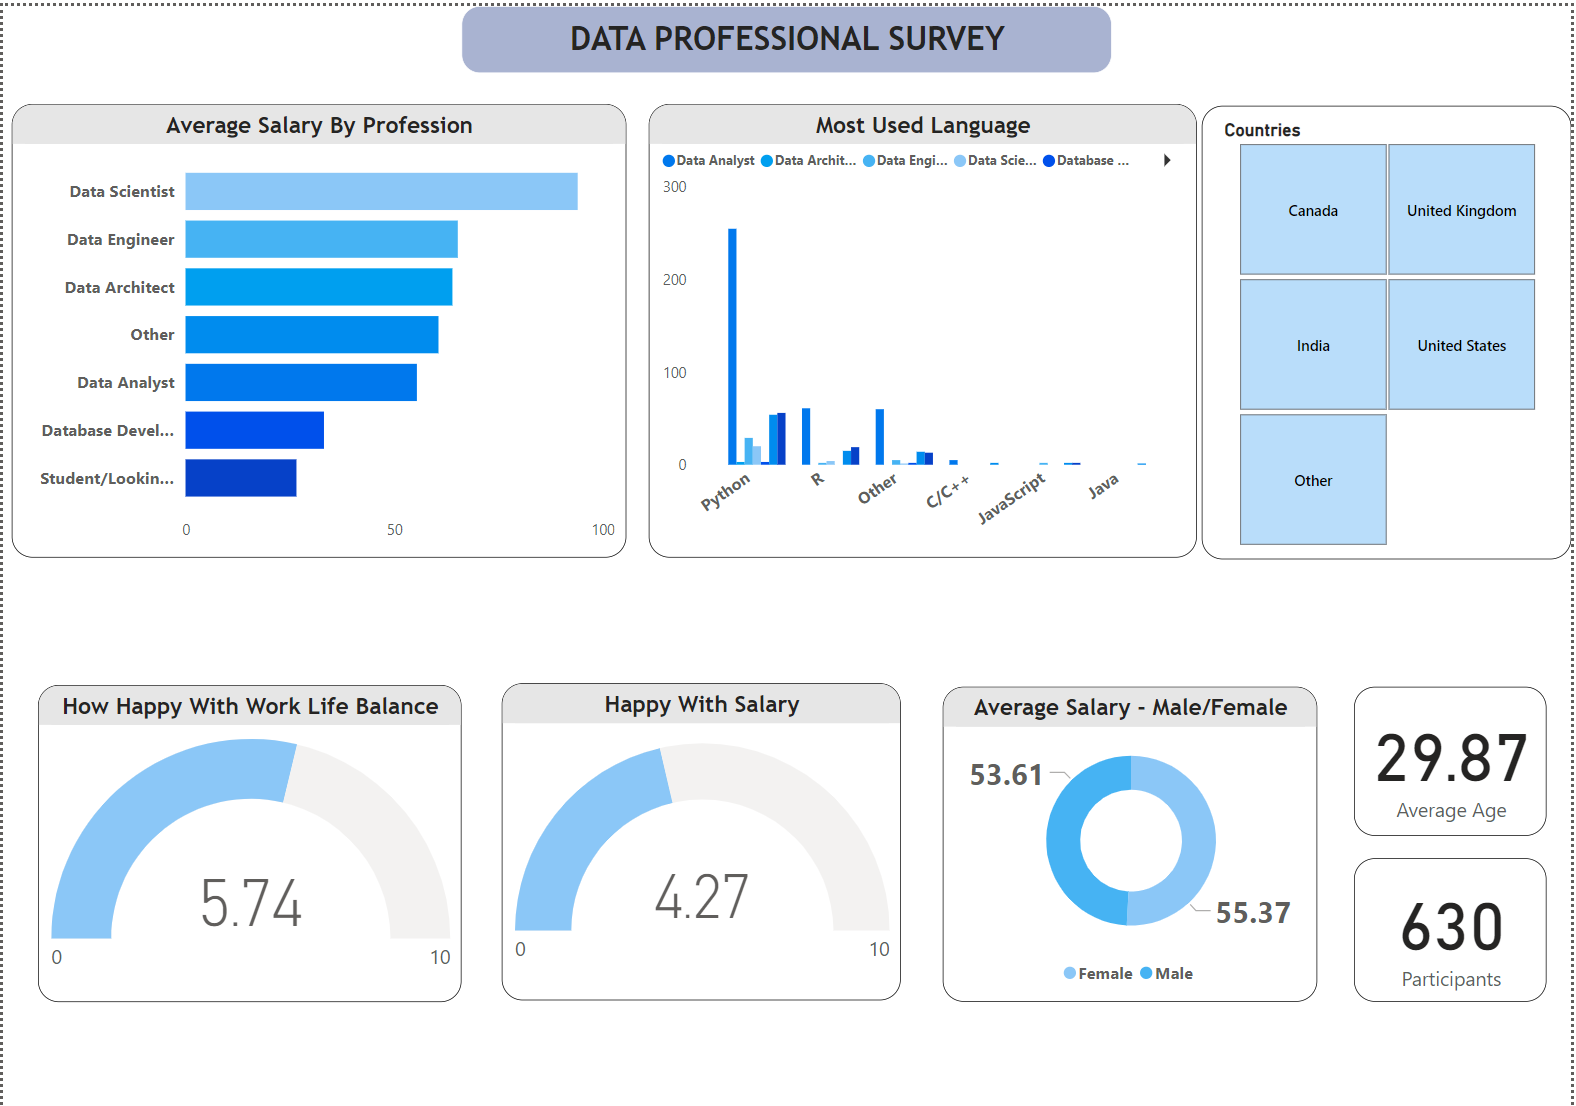

This screenshot's page, from the dashboard's own definition file:
{"tool":"powerbi","page":{"name":"First ","canvas":[1280,900],"ordinal":0},"visuals":[{"type":"textbox","box":[374.6,0,530.6,55],"z":0},{"type":"card","fields":{"Values":["CountNonNull(Data Professional Survey.Unique ID)"]},"box":[1102.9,695.7,157.1,117.1],"z":1000},{"type":"card","fields":{"Values":["Avg(Data Professional Survey.Q10 - Current Age)"]},"box":[1102.9,555.7,157.1,121.4],"z":2000},{"type":"barChart","title":"Average Salary By Profession ","fields":{"Category":["Data Professional Survey.Q1 - Which Title Best Fits your Current Role?.1"],"Y":["Avg(Data Professional Survey.Average Salary)"],"Series":["Data Professional Survey.Q1 - Which Title Best Fits your Current Role?.1"]},"box":[7.1,80,501.4,370],"z":3000},{"type":"clusteredColumnChart","title":"Most Used Language","fields":{"Category":["Data Professional Survey.Q5 - Favorite Programming Language.1"],"Y":["CountNonNull(Data Professional Survey.Unique ID)"],"Series":["Data Professional Survey.Q1 - Which Title Best Fits your Current Role?.1"]},"box":[527.1,80,447.1,370],"z":4000},{"type":"slicer","fields":{"Values":["Data Professional Survey.Q11 - Which Country do you live in?.1"]},"box":[978.6,81.4,301.4,370],"z":5000},{"type":"gauge","title":"How Happy With Work Life Balance ","fields":{"Y":["Avg(Data Professional Survey.Q6 - How Happy are you in your Current Position with the following? (Work/Life Balance))"],"MinValue":["Min(Data Professional Survey.Q6 - How Happy are you in your Current Position with the following? (Work/Life Balance))"],"MaxValue":["Max(Data Professional Survey.Q6 - How Happy are you in your Current Position with the following? (Work/Life Balance))"]},"box":[28.6,554.3,345.7,258.6],"z":6000},{"type":"gauge","title":"Happy With Salary","fields":{"Y":["Avg(Data Professional Survey.Q6 - How Happy are you in your Current Position with the following? (Salary))"],"MinValue":["Min(Data Professional Survey.Q6 - How Happy are you in your Current Position with the following? (Salary))"],"MaxValue":["Max(Data Professional Survey.Q6 - How Happy are you in your Current Position with the following? (Salary))"]},"box":[407.1,552.9,325.7,258.6],"z":7000},{"type":"donutChart","title":"Average Salary - Male/Female","fields":{"Category":["Data Professional Survey.Q9 - Male/Female?"],"Y":["Avg(Data Professional Survey.Average Salary)"]},"box":[767.1,555.7,305.7,257.1],"z":8000}]}

Visuals, with their boxes in screenshot pixels (x1, y1, x2, y2), scaled from the page's 1280x900 canvas onto the 1576x1106 screenshot:
textbox: 461:0:1115:68
card - CountNonNull(Data Professional Survey.Unique ID): 1358:855:1551:999
card - Avg(Data Professional Survey.Q10 - Current Age): 1358:683:1551:832
"Average Salary By Profession " barChart: 9:98:626:553
"Most Used Language" clusteredColumnChart: 649:98:1199:553
slicer - Data Professional Survey.Q11 - Which Country do you live in?.1: 1205:100:1575:555
"How Happy With Work Life Balance " gauge: 35:681:461:999
"Happy With Salary" gauge: 501:679:902:997
"Average Salary - Male/Female" donutChart: 944:683:1321:999
